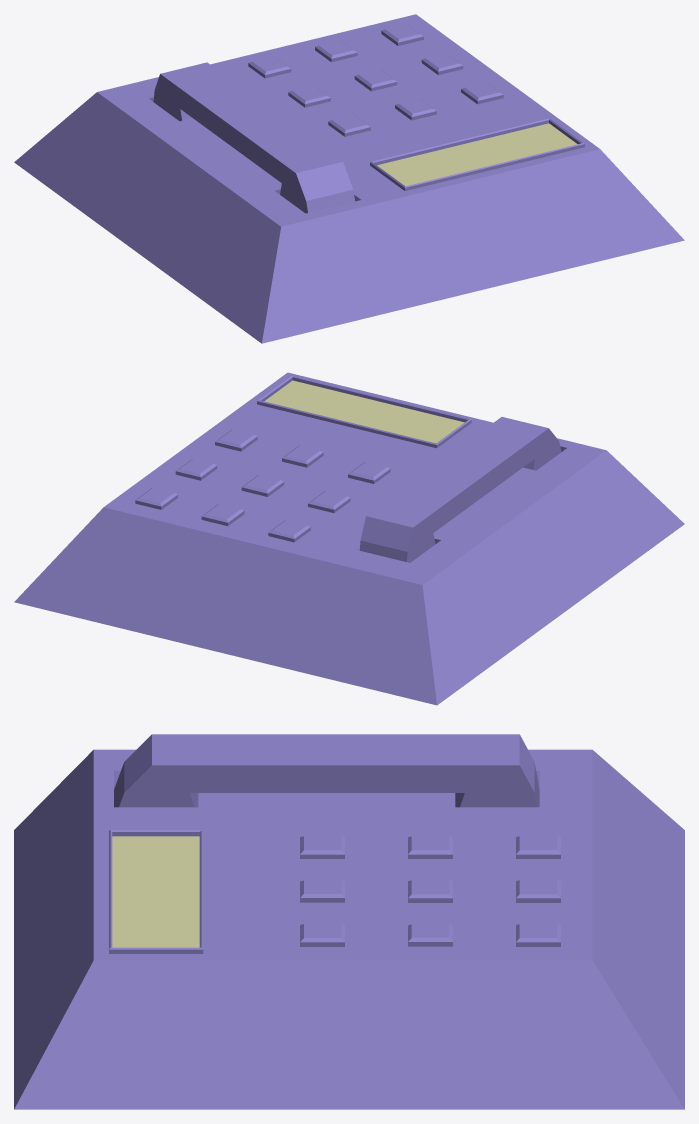
Rendered from telefono.fbx.
3 renders of one model, top to bottom at view 1: azimuth 30°, elevation 25°; view 2: azimuth 150°, elevation 25°; view 3: azimuth 270°, elevation 25°, orthographic. The views are drawn at different scales.
Visible parts, largest first — view 1: Cube; view 2: Cube; view 3: Cube.
Boxes of the visible parts, x1,y1,x2,y2 form: Cube: (14,14,684,343); Cube: (14,372,684,705); Cube: (14,734,684,1109).
Bounding box in the file's own units: 85.53 × 21.72 × 86.76.
